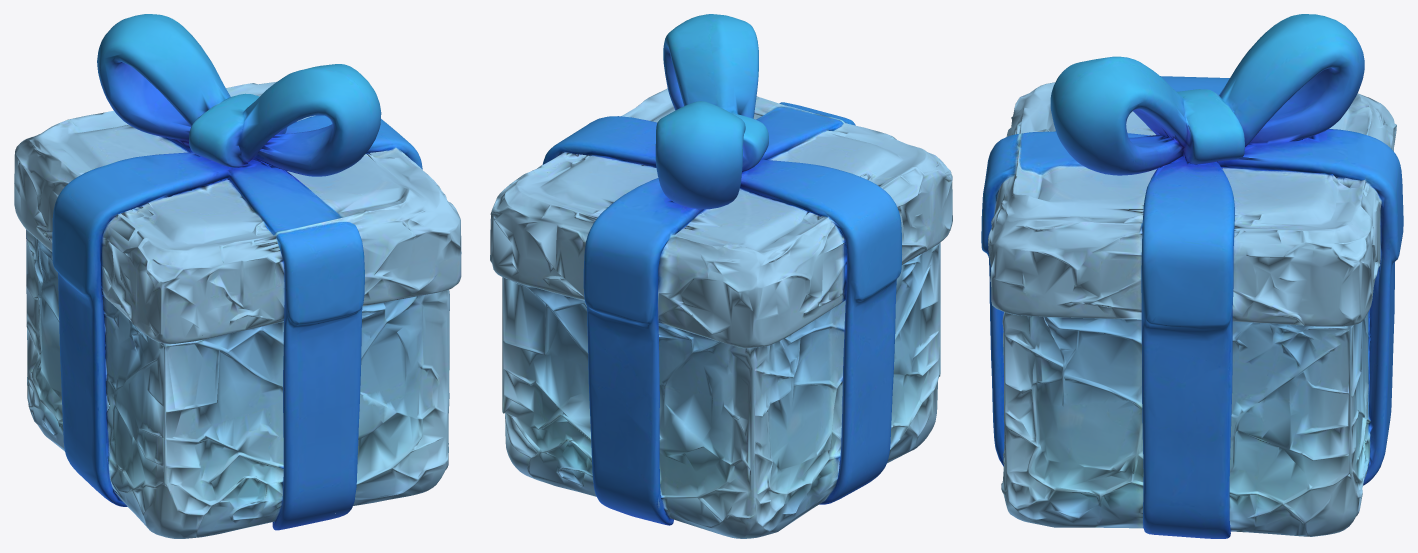
Rendered from box-ice-gift-diet.glb.
3 views of the same model, side by side, from view 1: azimuth 30°, elevation 25°; view 2: azimuth 150°, elevation 25°; view 3: azimuth 270°, elevation 25° (orthographic). The views are drawn at different scales.
Visible parts, largest first — view 1: tripo_node_4b407ac9-f58a-4555-a09f-bbbe1b8dbe57; view 2: tripo_node_4b407ac9-f58a-4555-a09f-bbbe1b8dbe57; view 3: tripo_node_4b407ac9-f58a-4555-a09f-bbbe1b8dbe57.
Boxes of the visible parts, x1,y1,x2,y2 form: tripo_node_4b407ac9-f58a-4555-a09f-bbbe1b8dbe57: (14, 14, 461, 538); tripo_node_4b407ac9-f58a-4555-a09f-bbbe1b8dbe57: (490, 14, 952, 538); tripo_node_4b407ac9-f58a-4555-a09f-bbbe1b8dbe57: (981, 14, 1403, 538).
Size of the model in its own units: 0.8296 by 0.9794 by 0.8547.
1 material, 1 textured.
